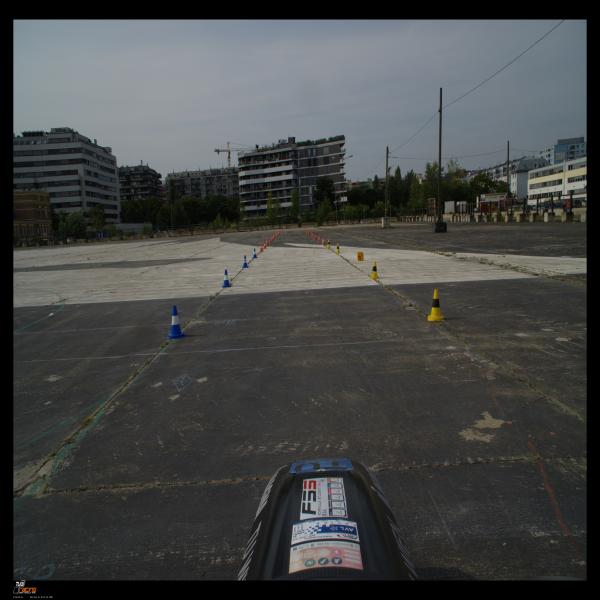blue_cone: (166, 306, 185, 339), (222, 270, 231, 288), (242, 255, 248, 268), (252, 248, 258, 258)
large_orange_cone: (304, 228, 307, 233), (278, 229, 280, 235)
orange_cone: (260, 242, 263, 252), (266, 238, 269, 246), (322, 237, 325, 245), (318, 235, 321, 242), (271, 235, 274, 241), (269, 237, 272, 243), (314, 234, 317, 240), (264, 240, 266, 248), (312, 232, 314, 238), (276, 232, 278, 237), (274, 233, 276, 238), (273, 234, 275, 239), (308, 231, 310, 236), (306, 230, 308, 235), (277, 231, 279, 235), (310, 232, 312, 236)
yellow_cone: (428, 289, 444, 321), (370, 261, 379, 279), (357, 252, 364, 261), (336, 243, 340, 253), (326, 240, 330, 248)
